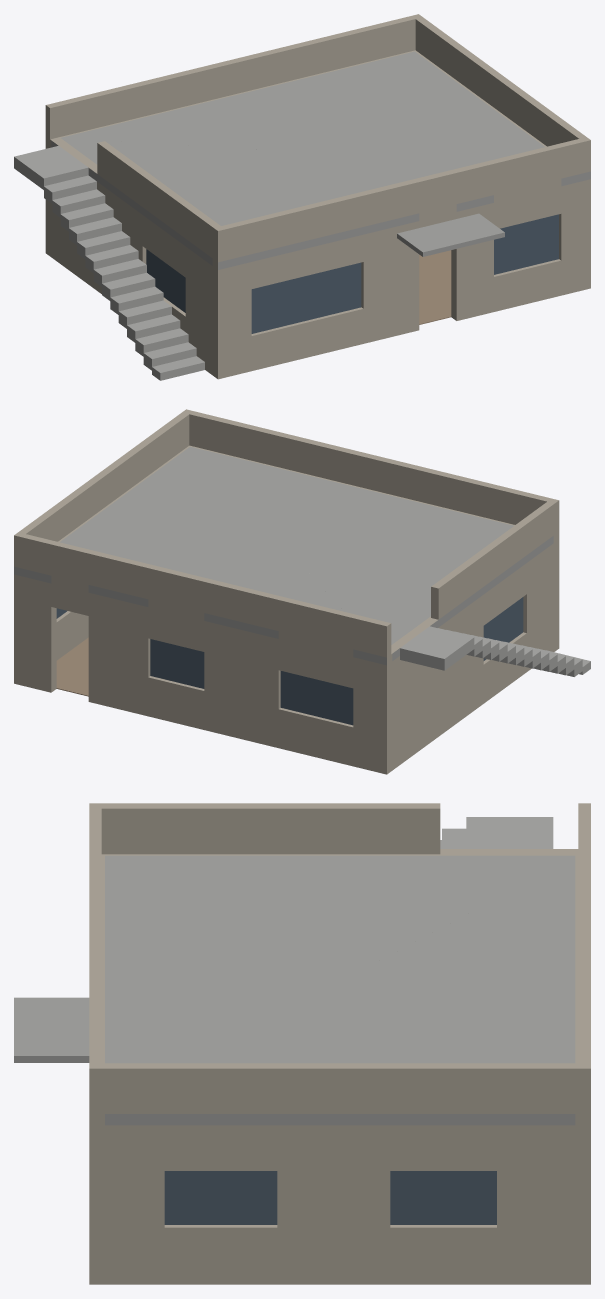
Rendered from bungalow.walls-v1.lod0.glb.
3 renders of one model, top to bottom at view 1: azimuth 30°, elevation 25°; view 2: azimuth 150°, elevation 25°; view 3: azimuth 270°, elevation 25°, orthographic. The views are drawn at different scales.
Parts seen in each view (by area): view 1: bungalow; view 2: bungalow; view 3: bungalow.
Part boxes in pixels (x1=…): bungalow: x1=14, y1=14, x2=590, y2=380; bungalow: x1=14, y1=409, x2=590, y2=774; bungalow: x1=14, y1=803, x2=590, y2=1284.
Size of the model in its own units: 11.2 by 3.8 by 9.2.
